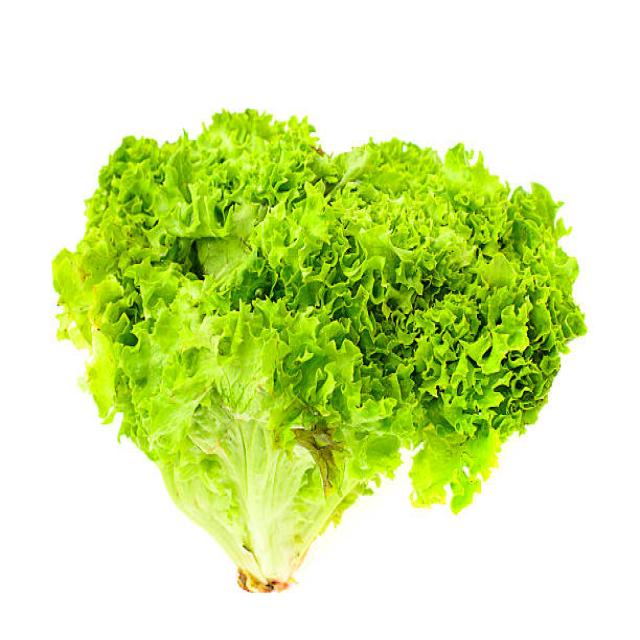Wet Waste: (52, 109, 582, 556)
